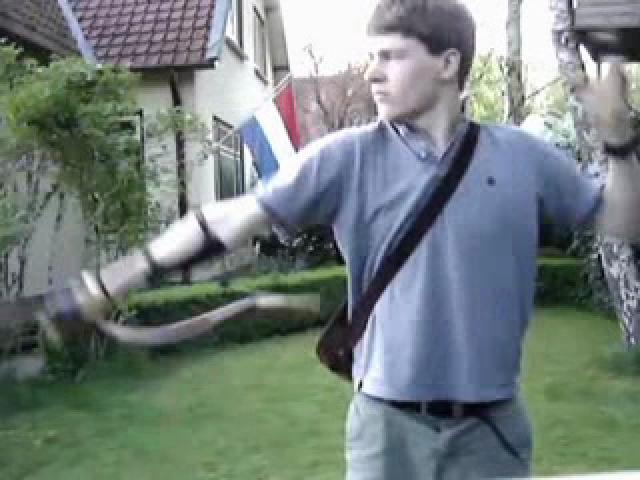P: (0, 0, 546, 477)
